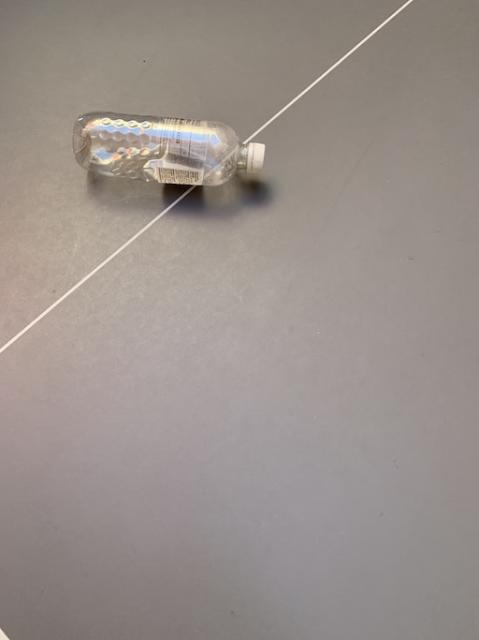plastic: (72, 111, 263, 184)
